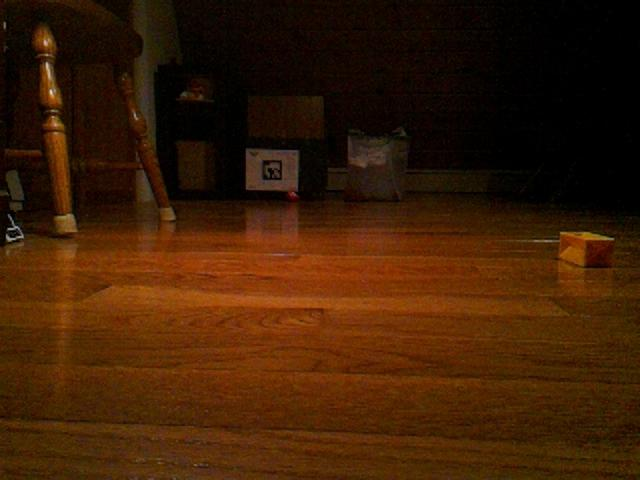yellow: (557, 229, 616, 269)
